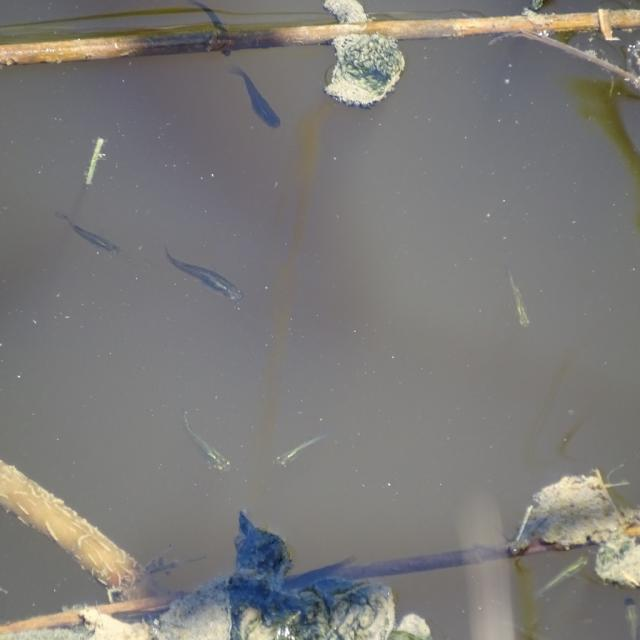Sivrisinek Baligi: (162, 238, 244, 306), (228, 64, 286, 134), (52, 203, 120, 260), (178, 404, 232, 475), (70, 126, 116, 188), (274, 422, 326, 473), (501, 267, 534, 331)
